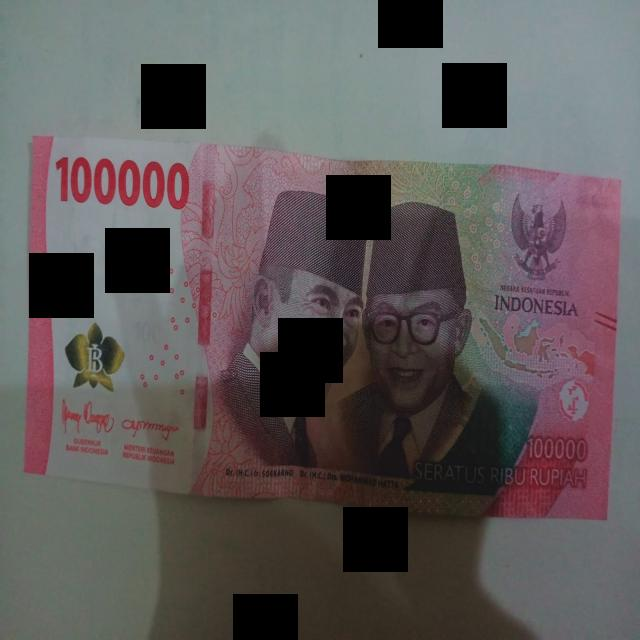seratusribu rupiah: (25, 137, 620, 518)
